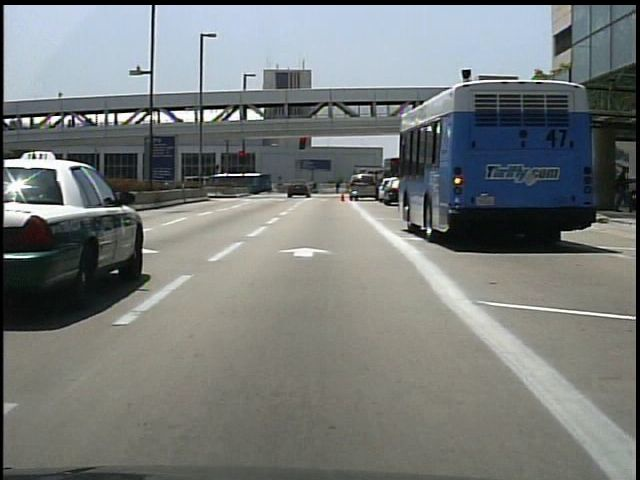person: (613, 166, 630, 213), (310, 181, 320, 196), (333, 179, 342, 195)
